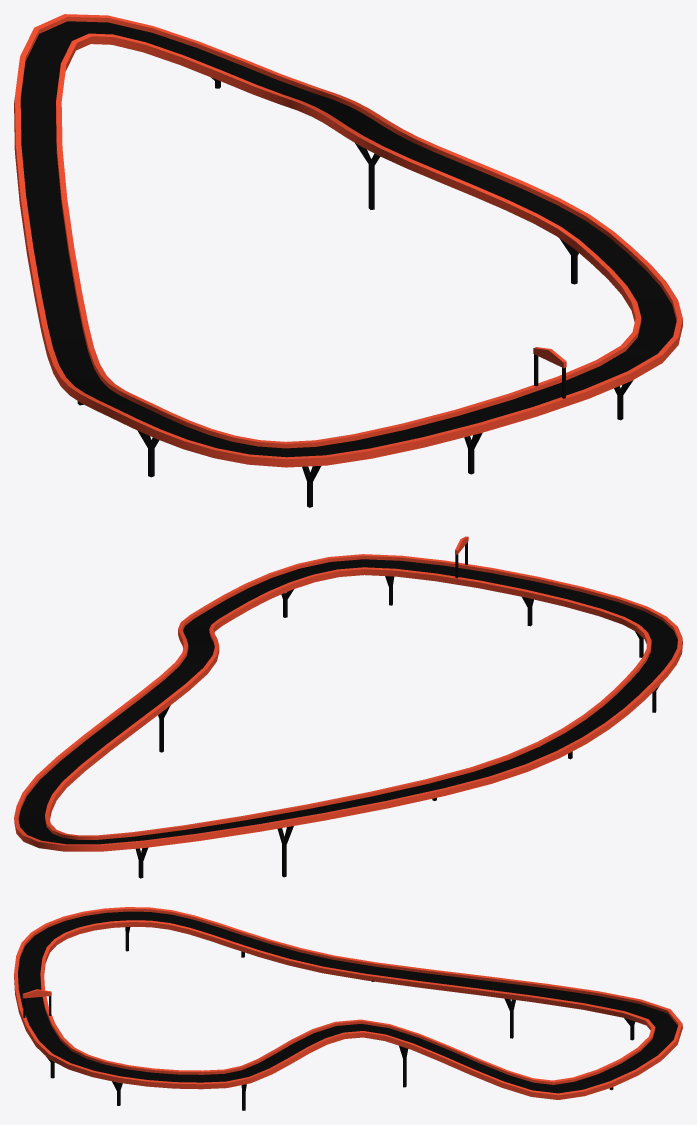
Rendered from Track_02.fbx.
3 renders of one model, top to bottom at view 1: azimuth 30°, elevation 25°; view 2: azimuth 150°, elevation 25°; view 3: azimuth 270°, elevation 25°, orthographic. The views are drawn at different scales.
Visible parts, largest first — view 1: Track_02; view 2: Track_02; view 3: Track_02.
Boxes of the visible parts, bbox=[...] form: Track_02: bbox=[14, 14, 682, 507]; Track_02: bbox=[14, 536, 682, 878]; Track_02: bbox=[14, 907, 682, 1110].
Size of the model in its own units: 11047 by 2678 by 17922.
